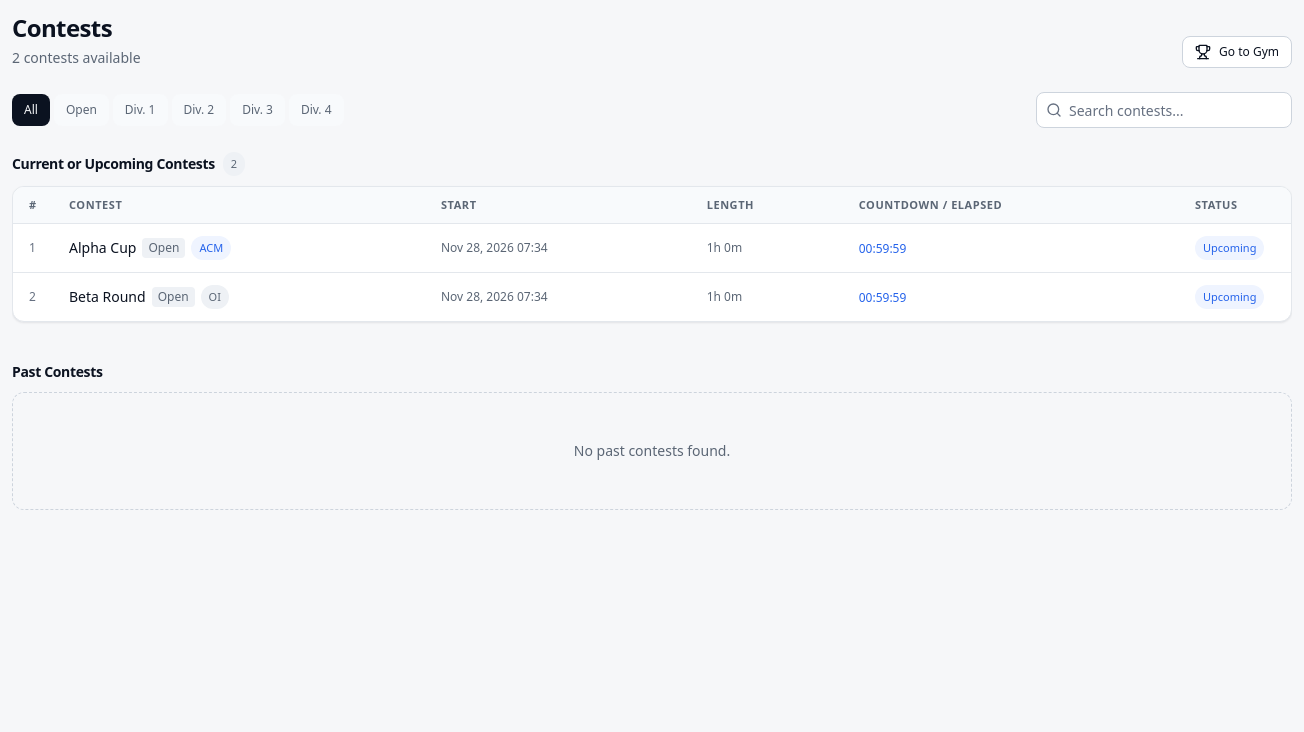
Scenario: search input debounces and filters loaded contests client-side
The image size is (1304, 732).
Expected: the link "Alpha Cup" is shown, [69,238,136,258]
Type "alpha" into the search field with placeholder "Search contests...".
click(1164, 110); type("alpha")  # box [1036,92,1292,128]
Wait 300 ms
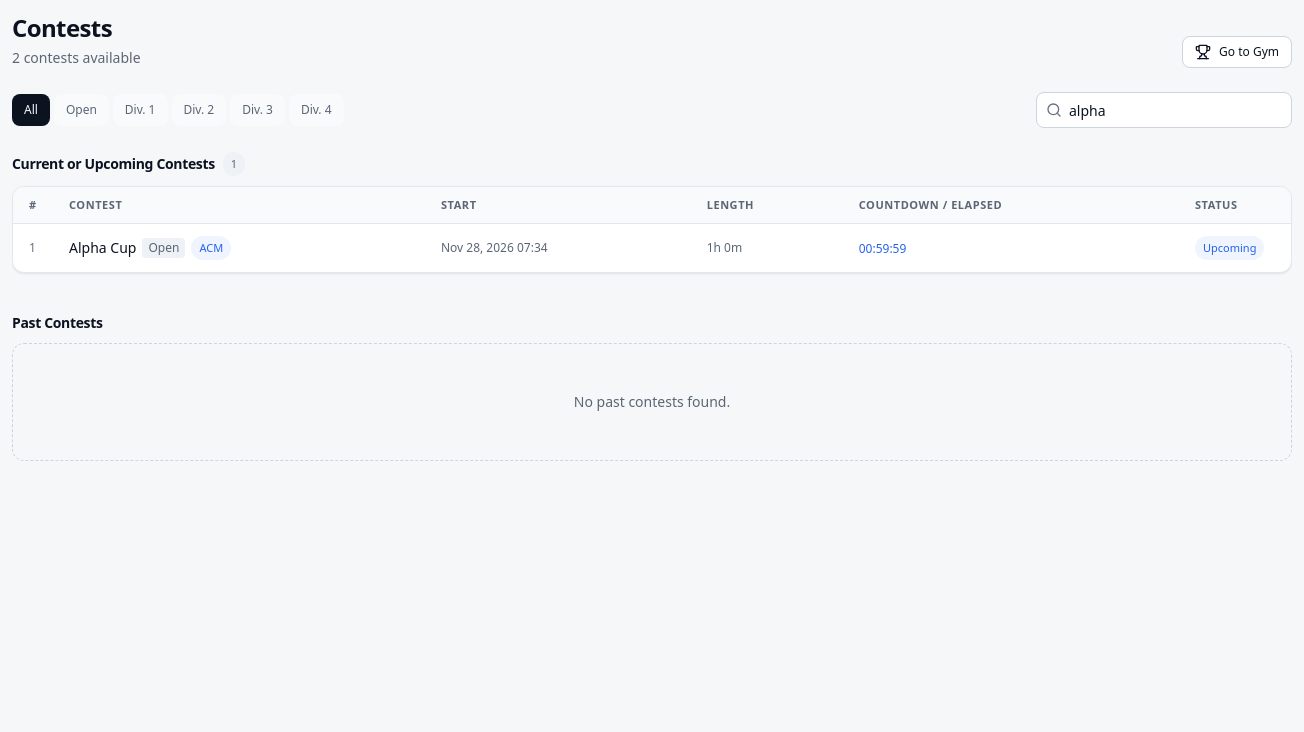
Expected: the link "Alpha Cup" is shown, [69,238,136,258]
Expected: the link "Beta Round" is gone
